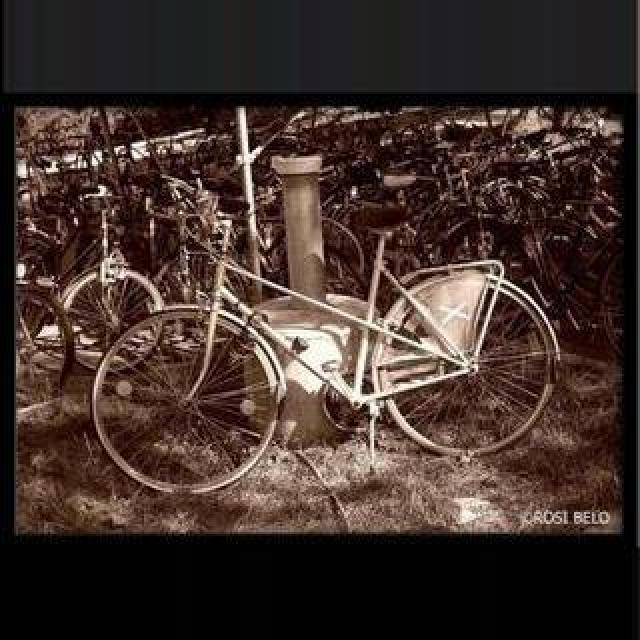Person: (86, 148, 582, 486), (56, 190, 162, 378)
